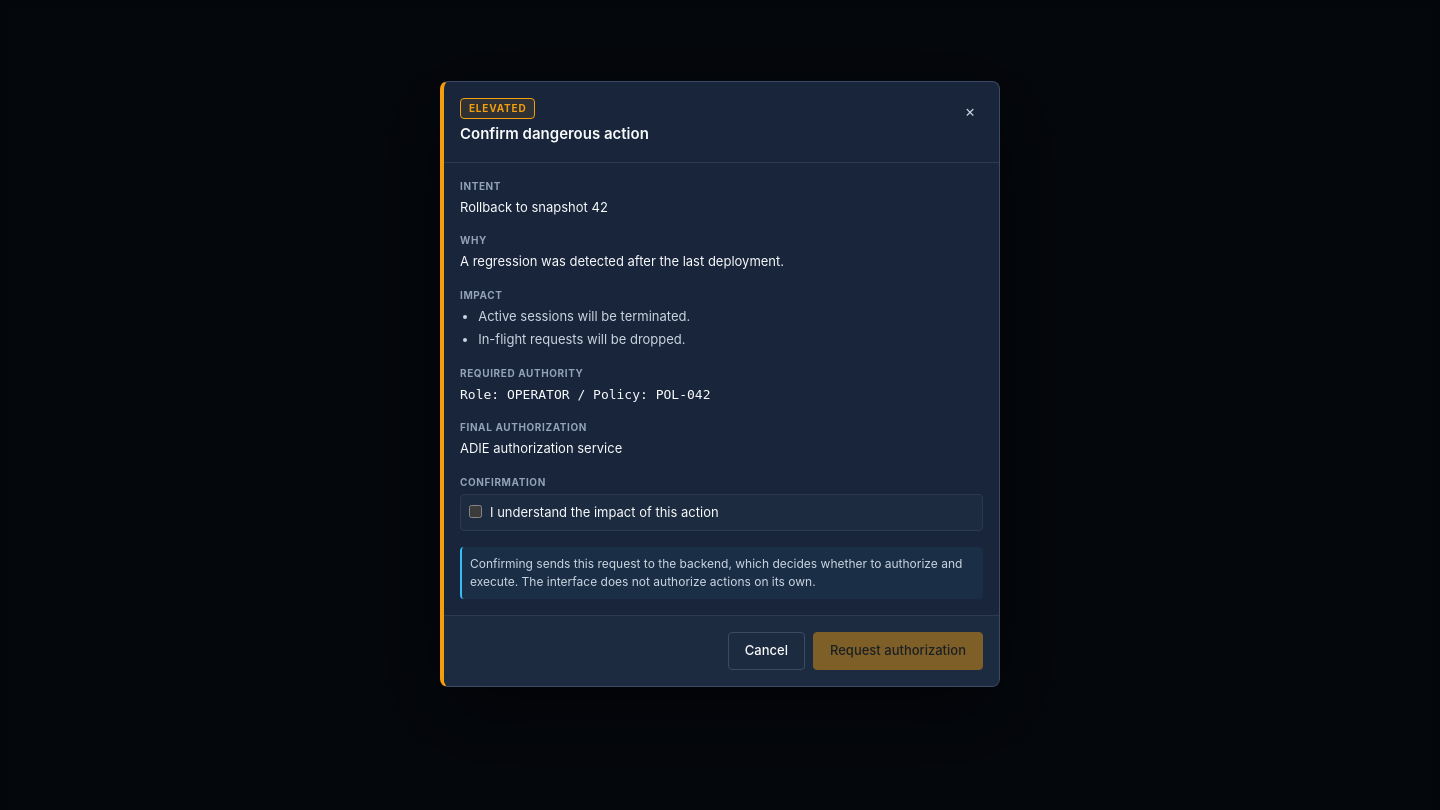
it: DangerousActionDialog › checking acknowledgment enables confirm (no phrase required)
Click the checkbox with test id "eg-danger-ack" at (476,511), box 469,504 -> 482,518
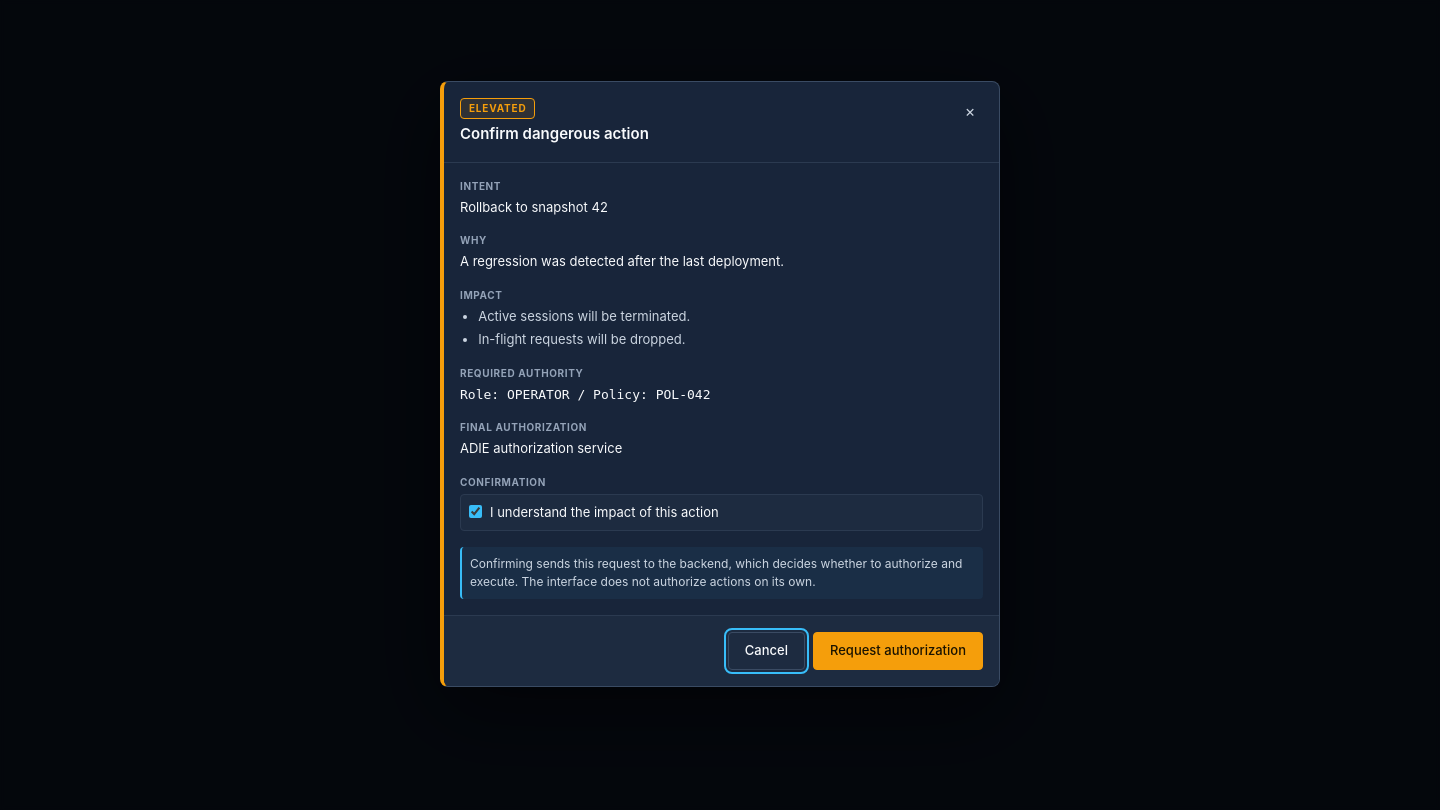
expect the button with test id "eg-danger-confirm" is enabled: met, box 813,632 -> 983,670
